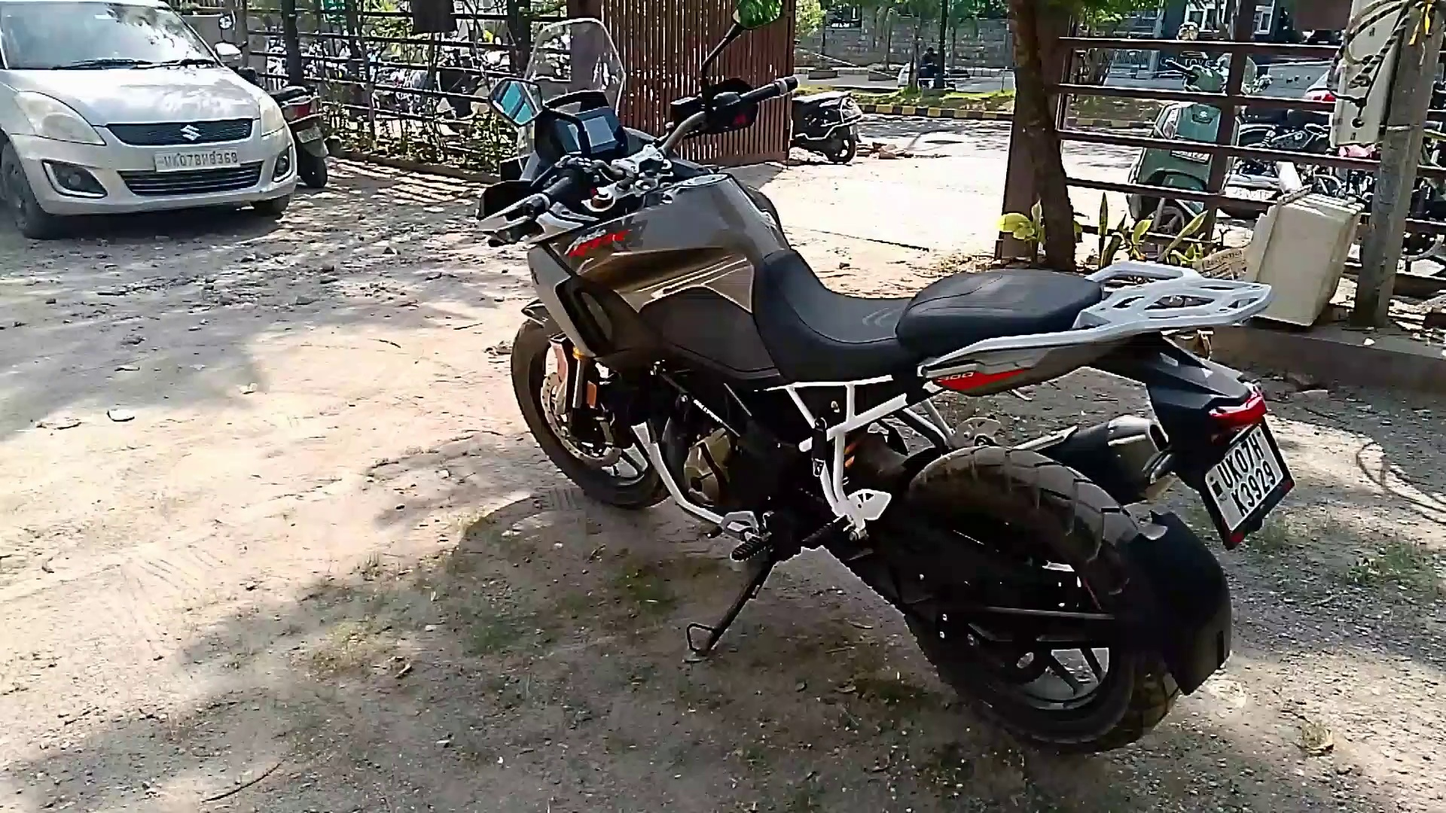engine: (665, 373, 759, 544)
